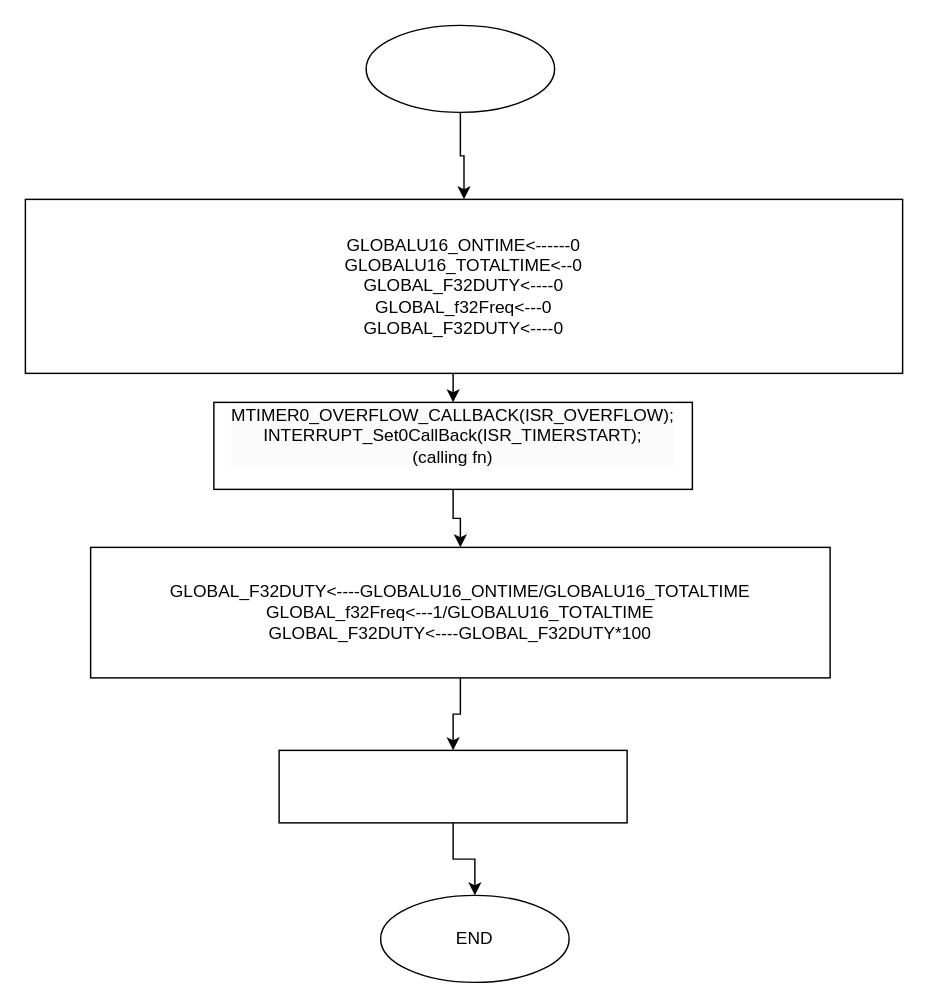
The diagram is 928 pixels wide and 1008 high, and some of its shapes have lost their labels. The shapes that lost their labels are listed below. From the top down, each one's box as (x1, y1, x2, y2) in pixels, then its label:
(365, 24, 555, 112): START
(278, 749, 627, 823): SHOW VALUES ON LCD
